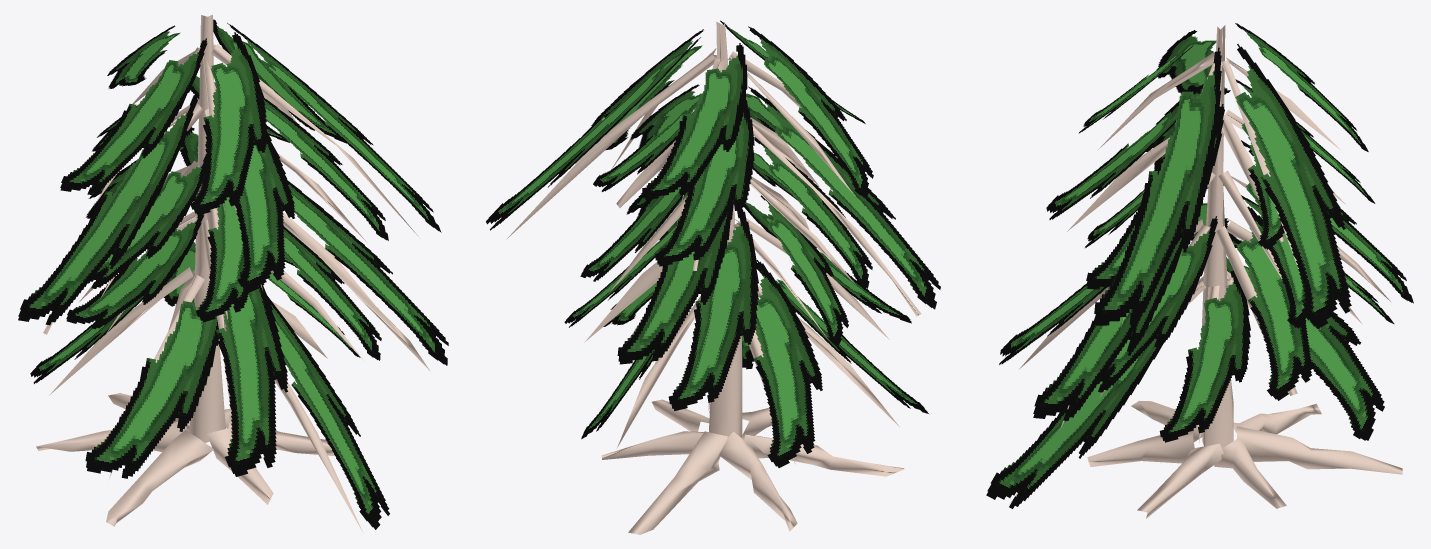
File: crowned_pine_03_lod-decimate-90.glb
The picture shows the model from 3 angles, left to right: view 1: azimuth 30°, elevation 25°; view 2: azimuth 150°, elevation 25°; view 3: azimuth 270°, elevation 25°; orthographic projection.
Visible parts, largest first — view 1: crowned_pine_03; view 2: crowned_pine_03; view 3: crowned_pine_03.
Boxes of the visible parts, bbox=[...] form: crowned_pine_03: bbox=[18, 14, 448, 531]; crowned_pine_03: bbox=[486, 20, 940, 534]; crowned_pine_03: bbox=[986, 23, 1413, 518].
Bounding box in the file's own units: 5.3 × 5.65 × 4.89.
2 materials, 1 textured.
